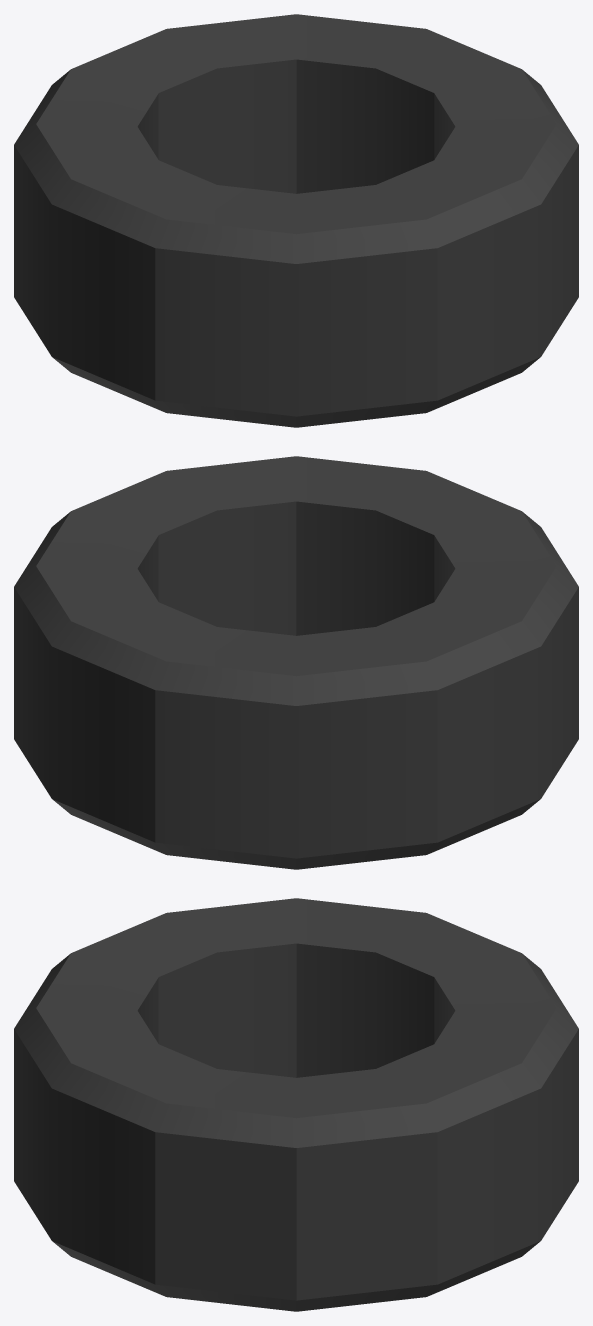
Rendered from Tire.fbx.
3 views of the same model, one above another, from view 1: azimuth 30°, elevation 25°; view 2: azimuth 150°, elevation 25°; view 3: azimuth 270°, elevation 25° (orthographic).
Parts seen in each view (by area): view 1: Tire; view 2: Tire; view 3: Tire.
Boxes of the visible parts, x1,y1,x2,y2 form: Tire: (14,14,578,427); Tire: (14,456,578,869); Tire: (14,898,578,1311).
Bounding box in the file's own units: 87.39 × 33.04 × 87.39.
